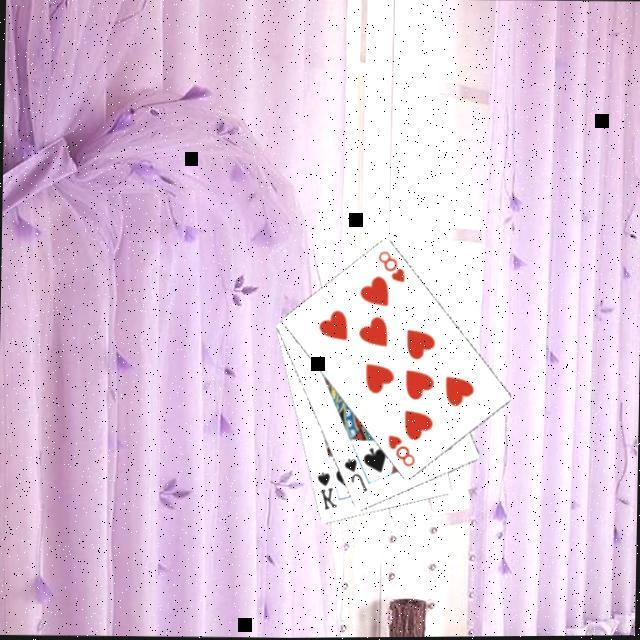8H: (382, 433, 418, 472), (372, 248, 407, 288)
JS: (338, 456, 369, 497)
KS: (310, 470, 340, 514)
